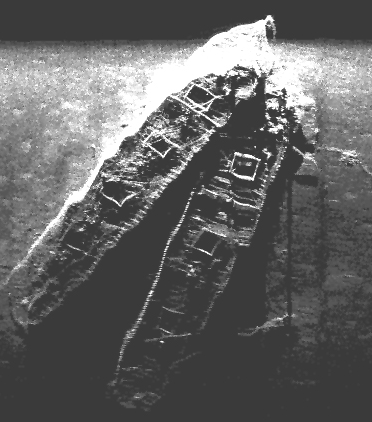ship: (9, 18, 270, 331), (110, 85, 295, 406)
